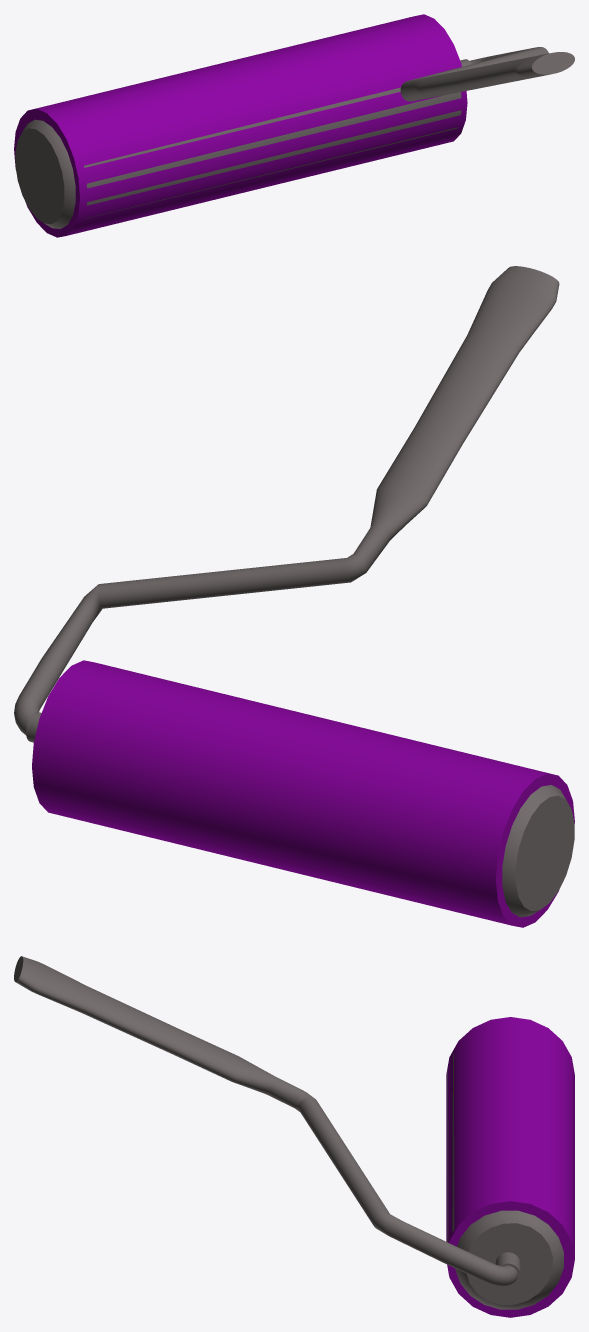
The model's file is PaintRollPurple 1.fbx.
3 renders of one model, top to bottom at view 1: azimuth 30°, elevation 25°; view 2: azimuth 150°, elevation 25°; view 3: azimuth 270°, elevation 25°, orthographic. The views are drawn at different scales.
Parts seen in each view (by area): view 1: pCylinder5, pCylinder4; view 2: pCylinder5, pCylinder4; view 3: pCylinder5, pCylinder4.
Boxes of the visible parts, x1,y1,x2,y2 form: pCylinder5: [14, 14, 467, 237]; pCylinder4: [15, 47, 574, 229]; pCylinder5: [32, 660, 574, 927]; pCylinder4: [14, 266, 574, 917]; pCylinder5: [446, 1017, 574, 1317]; pCylinder4: [14, 956, 563, 1309].
Size of the model in its own units: 4.01 by 2.56 by 4.43.
